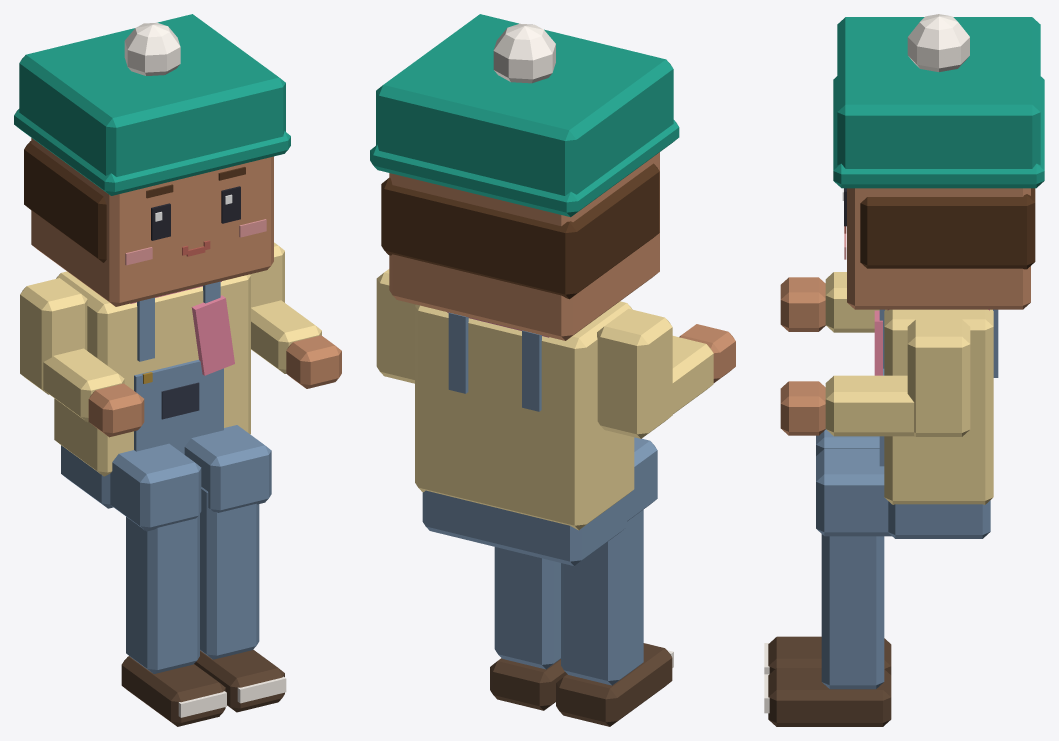
File: CatCafe_NPC_Customer_F_Sit.glb
The picture shows the model from 3 angles, left to right: view 1: azimuth 30°, elevation 25°; view 2: azimuth 150°, elevation 25°; view 3: azimuth 270°, elevation 25°; orthographic projection. The views are drawn at different scales.
Visible parts, largest first — view 1: CatCafe_NPC_Customer_F_Sit; view 2: CatCafe_NPC_Customer_F_Sit; view 3: CatCafe_NPC_Customer_F_Sit.
Part boxes in pixels (x1,y1,x2,y2): CatCafe_NPC_Customer_F_Sit: [14, 14, 341, 726]; CatCafe_NPC_Customer_F_Sit: [370, 14, 735, 726]; CatCafe_NPC_Customer_F_Sit: [764, 14, 1044, 726].
Size of the model in its own units: 2.22 by 5.53 by 2.05.
Materials: 1 (1 with a texture image).
